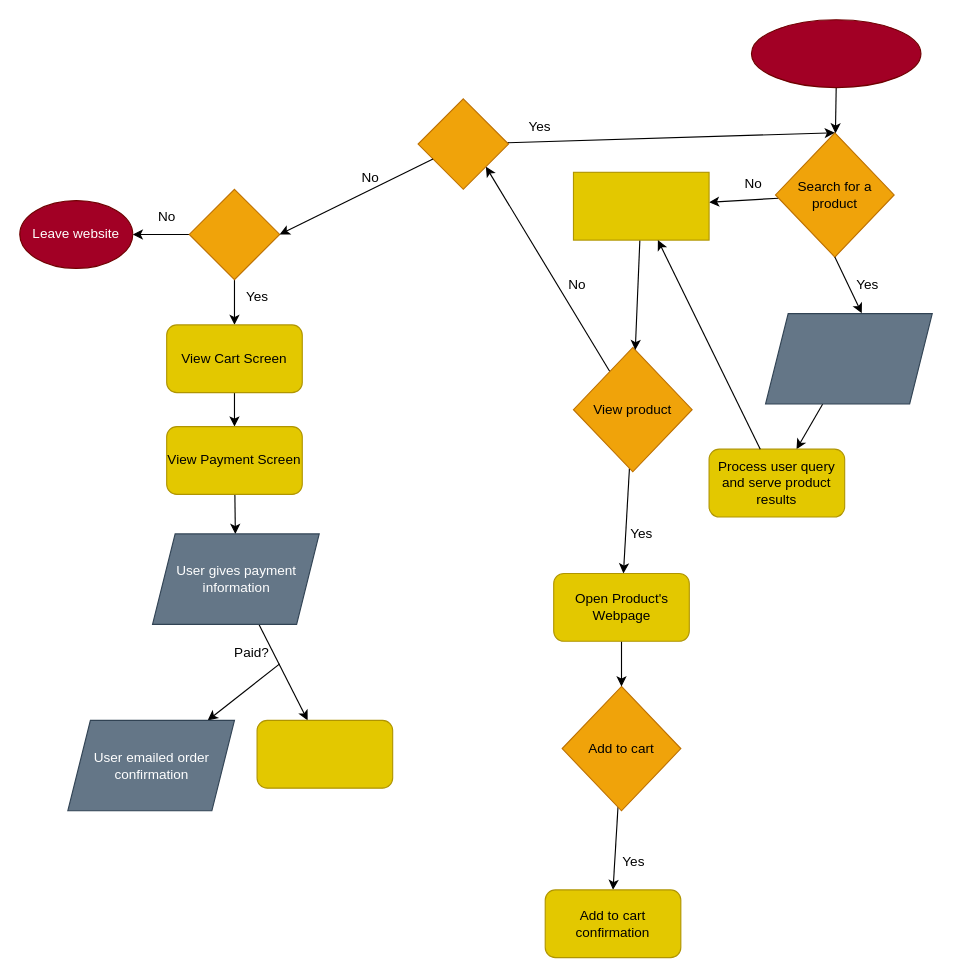
The diagram is 953 pixels wide and 977 high, and some of its shapes have lost their labels. The shapes that lost their labels are listed below. From the top down, each one's centre as x and y in pixels, then its label:
At pixel 835 53: "User enters website".
At pixel 462 143: "Continue Shopping?".
At pixel 640 205: "Explore products on home page or current page".
At pixel 234 234: "Checkout?".
At pixel 848 358: "User provided search query".
At pixel 324 753: "Order Confirmation Screen".
